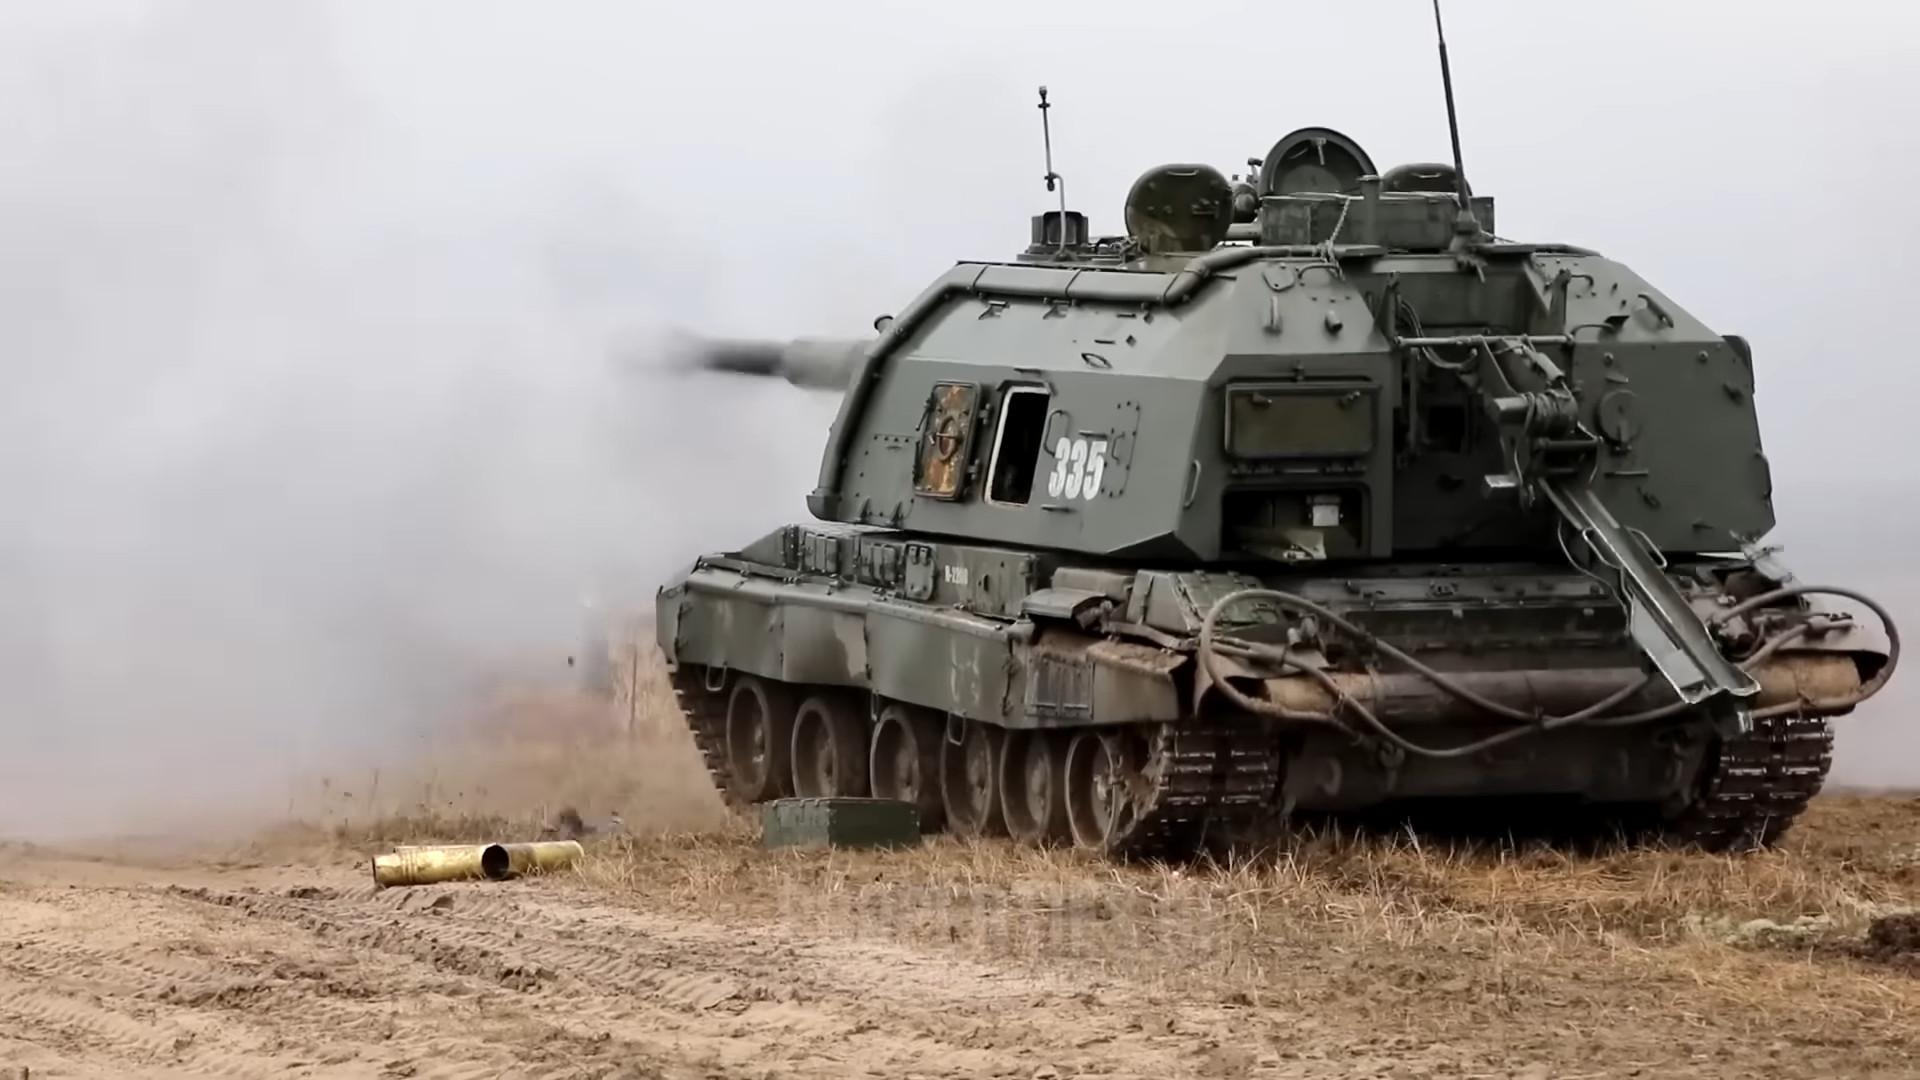tank: (605, 0, 1904, 862)
